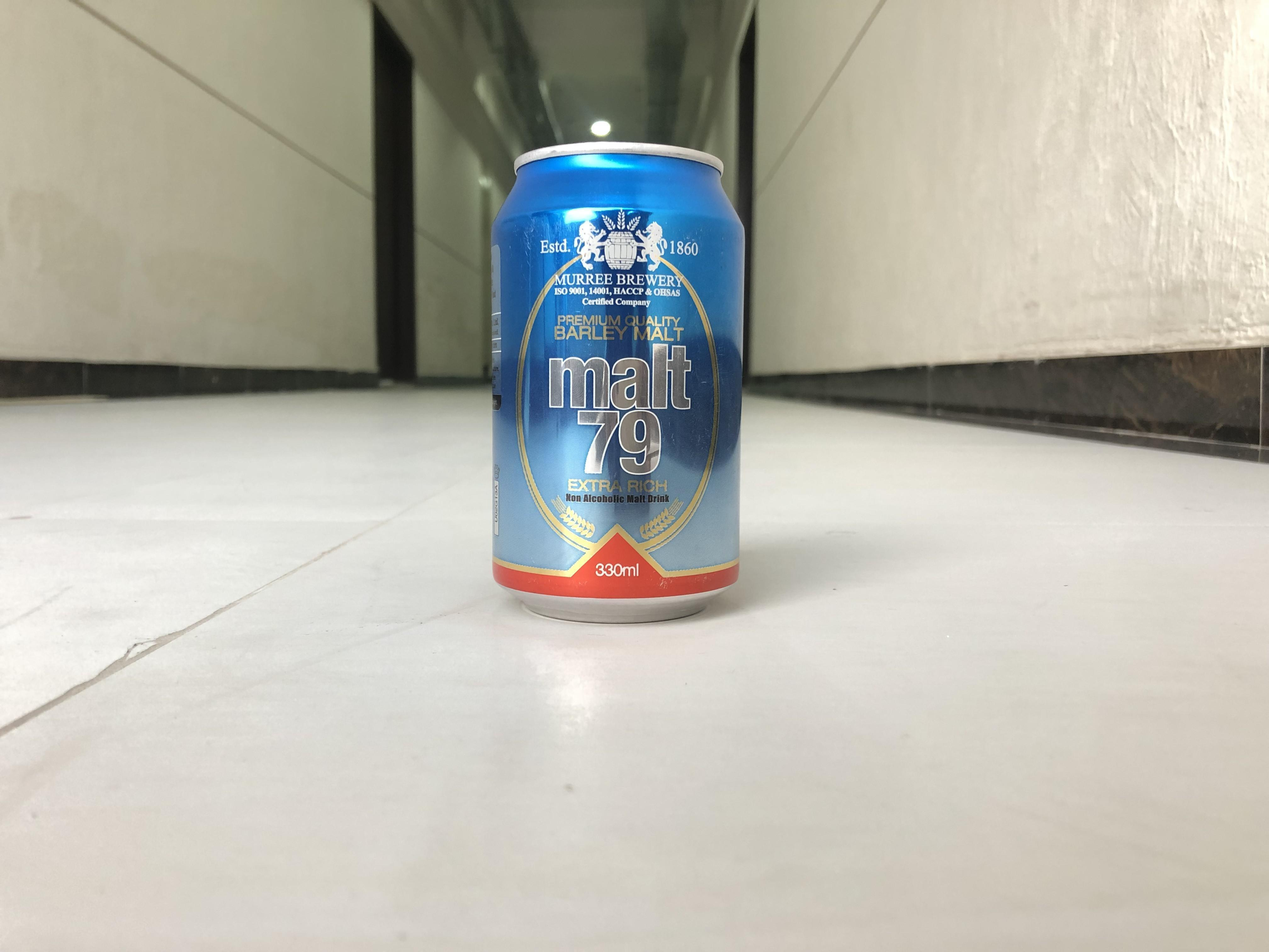tin can: (487, 140, 747, 627)
